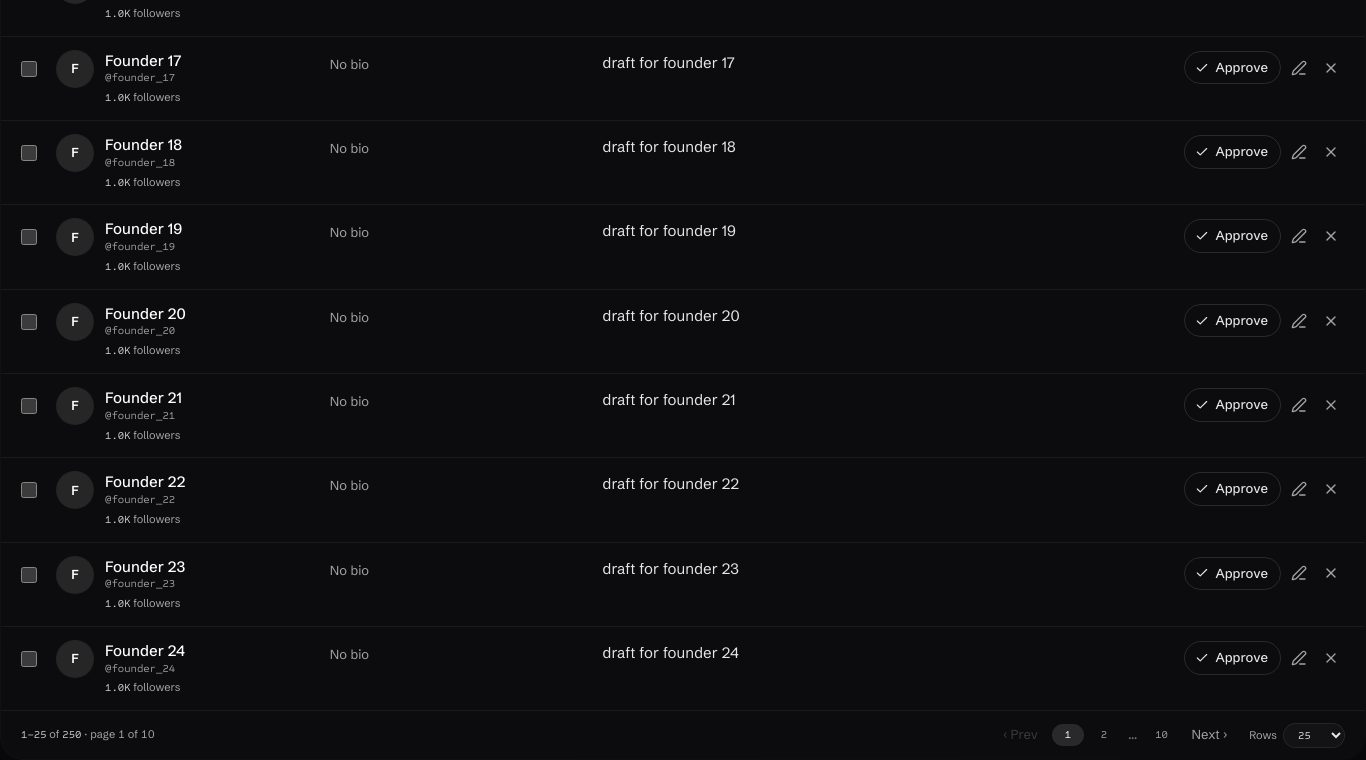
Test: ApprovalQueue pagination › clamps the page when the lead list shrinks under it
The width and height of the screenshot is (1366, 760).
(page scrolled)
Click the button "Next ›".
click(1209, 735)  # box [1182,721,1237,749]
(page scrolled)
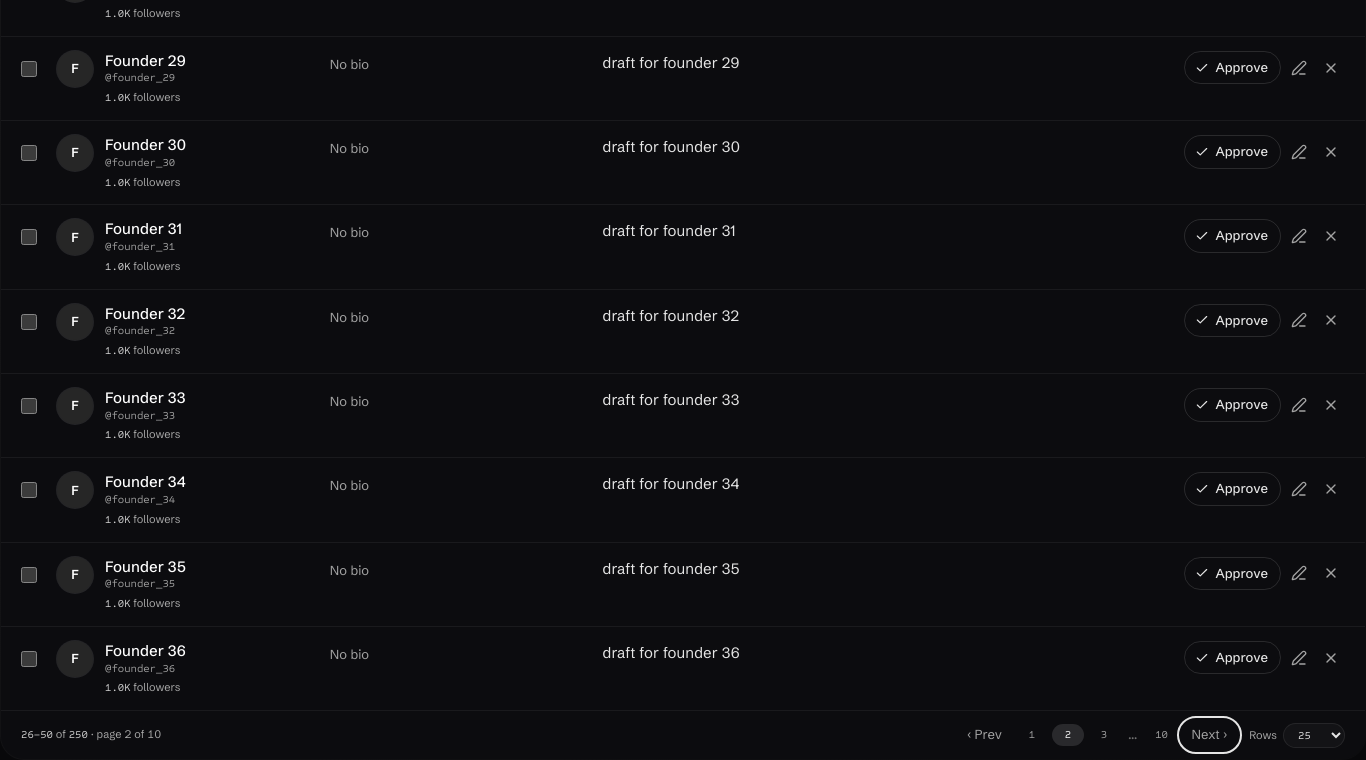
Check: the element showing "26–50 of 250 · page 2 of 10" is shown, box [21,727,161,743]
